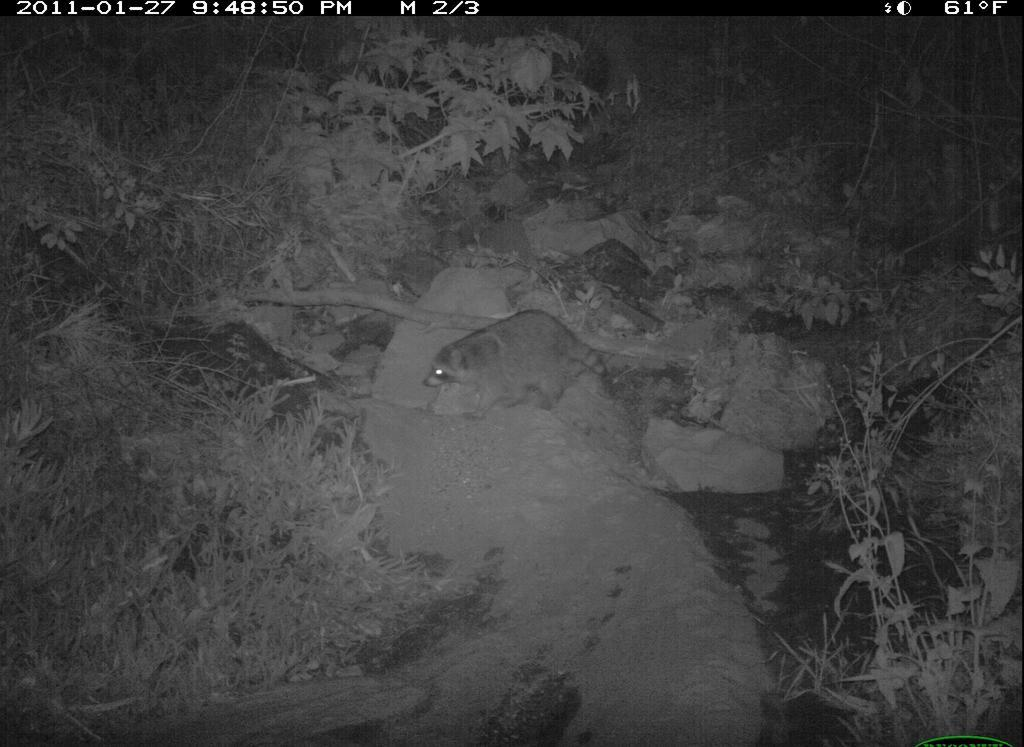raccoon: (428, 299, 675, 437)
